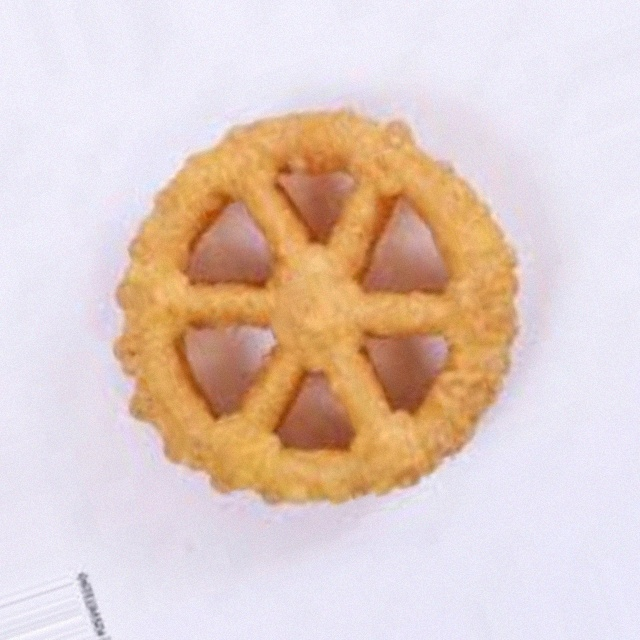Kokis: (103, 115, 537, 525)
